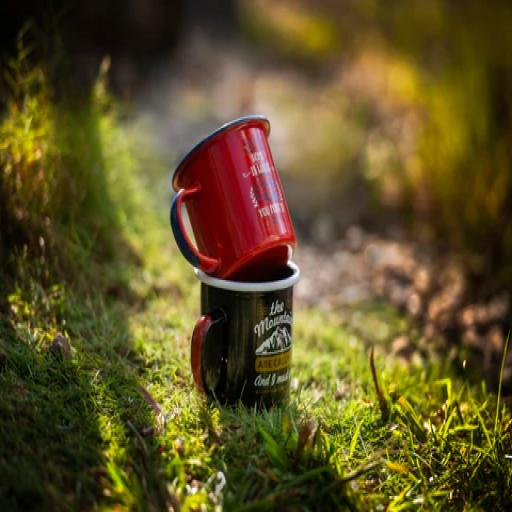cup: (169, 114, 297, 279)
